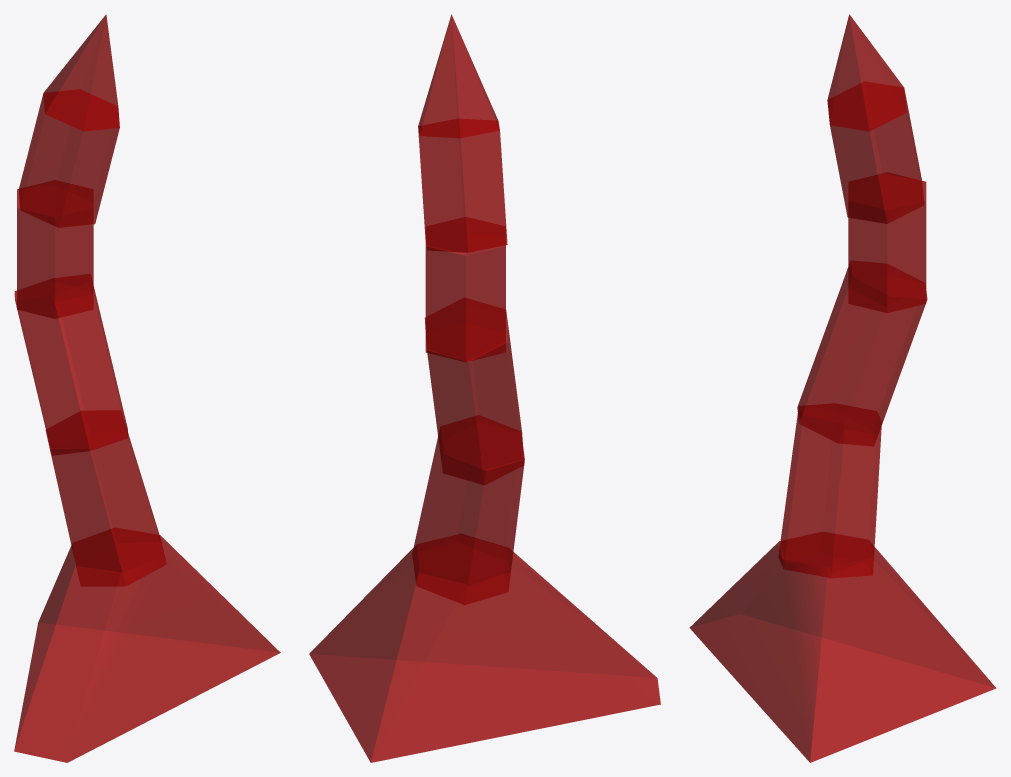
Rendered from SM_Prop_VineTree_01_Collision.fbx.
The picture shows the model from 3 angles, left to right: view 1: azimuth 30°, elevation 25°; view 2: azimuth 150°, elevation 25°; view 3: azimuth 270°, elevation 25°; orthographic projection. The views are drawn at different scales.
Visible parts, largest first — view 1: SM_Prop_VineTree_01_Collision; view 2: SM_Prop_VineTree_01_Collision; view 3: SM_Prop_VineTree_01_Collision.
Part boxes in pixels (<box>): SM_Prop_VineTree_01_Collision: <box>14,14,280,762</box>; SM_Prop_VineTree_01_Collision: <box>309,14,660,762</box>; SM_Prop_VineTree_01_Collision: <box>689,14,996,762</box>.
Bounding box in the file's own units: 570 × 1197 × 496.
